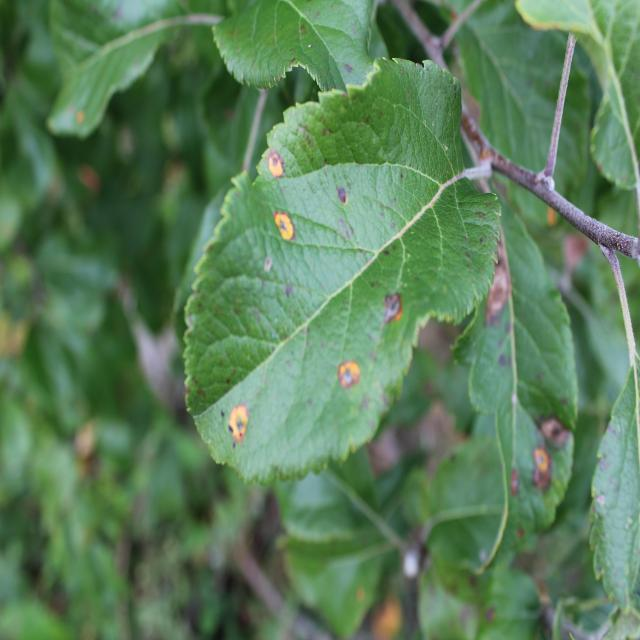Rust: (334, 344, 370, 398), (536, 403, 570, 456), (252, 142, 292, 187), (273, 199, 302, 261), (220, 403, 258, 450), (381, 284, 411, 332), (533, 440, 552, 503)
